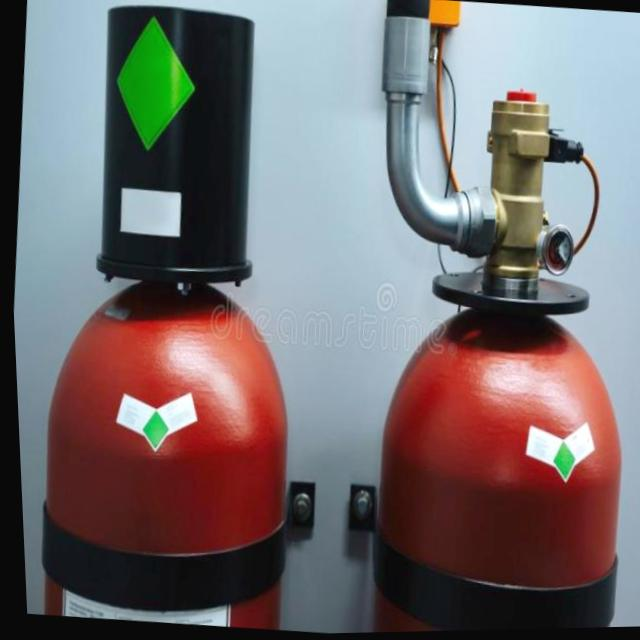FireExtinguisher: (8, 22, 330, 634), (339, 67, 640, 634)
